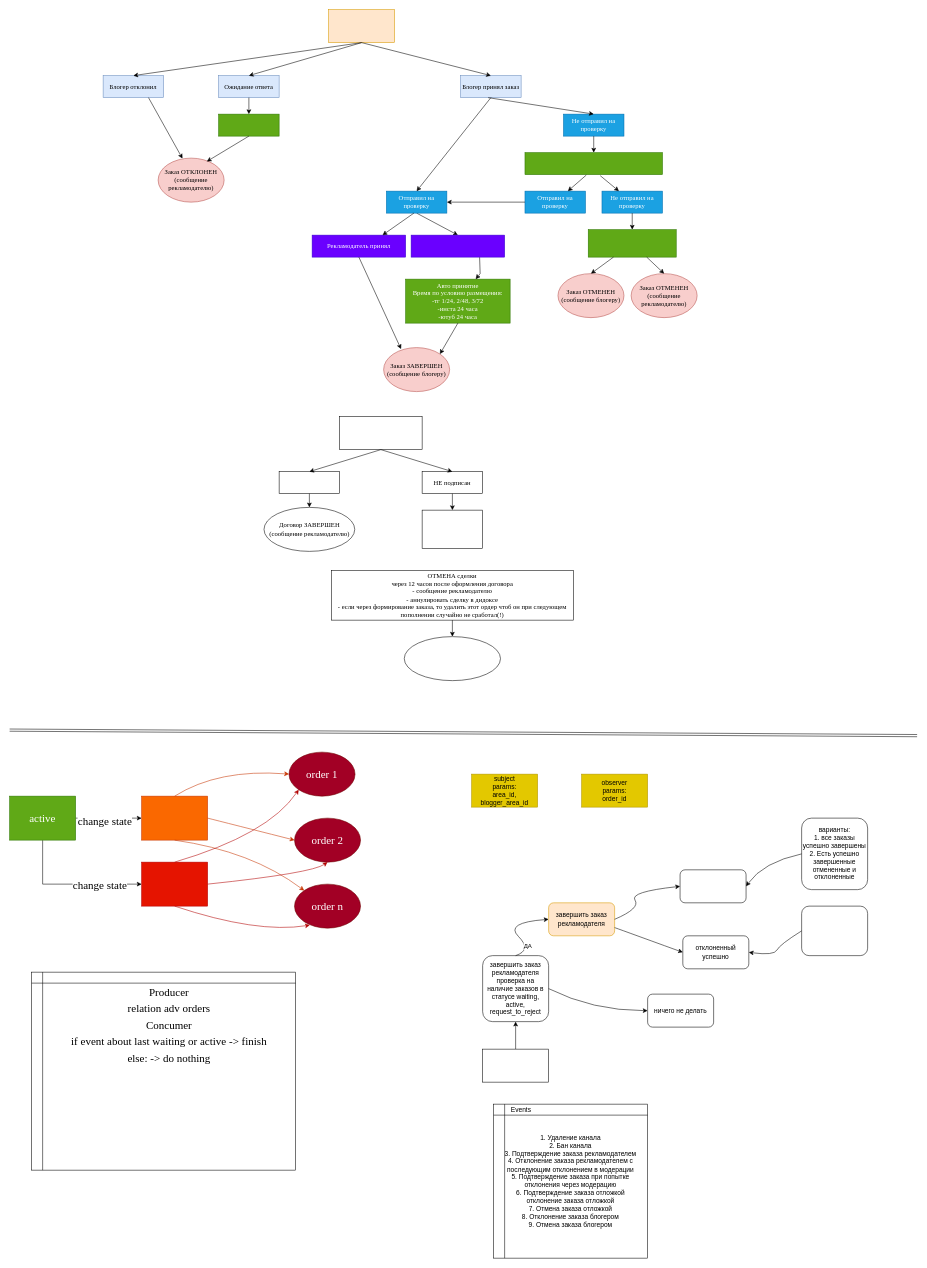
Some shapes in this 927 by 1268 pixel diagram are drawn without their labels. Here are the shapes that lost their labels. From the top down, the box of each, then its label:
(328, 9, 395, 43): НОВЫЙ ЗАКАЗ
(218, 114, 279, 136): Авто отклонение через 12 часов
(524, 152, 662, 175): Напоминалка за 4 часа до левого времени или 20:00
(411, 235, 505, 257): Рекламодатель НЕ принял
(588, 229, 676, 257): Отмена проекта +2 часа от правого времени или в 23:59
(339, 416, 422, 450): ДИДОКС (сформирован договор)
(279, 471, 340, 494): Договор подписан
(422, 510, 483, 549): Напоминалка через 4 часа после оформления договора
(404, 636, 501, 681): Договор АННУЛИРОВАН (сообщение рекламодателю)
(141, 796, 208, 840): banned
(141, 862, 208, 906): deleted
(680, 869, 746, 903): завершенный успешно
(801, 906, 868, 956): варианты: 1. все заказы отклонены
(482, 1049, 549, 1082): event
